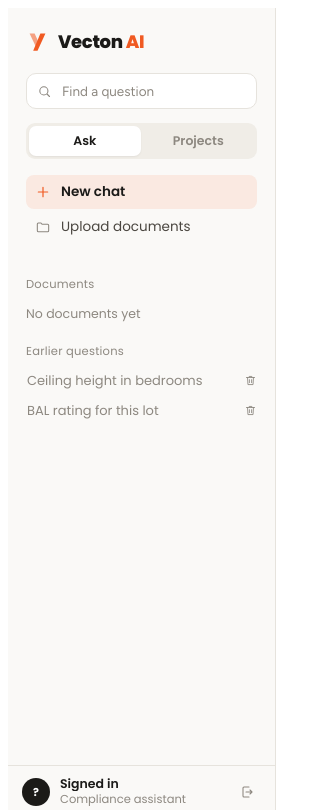
Scenario: Sidebar › filters the chat list as the user types in the search box
Type "BAL" into the field with placeholder "Find a question" at (153, 91), box [60,82,246,100]
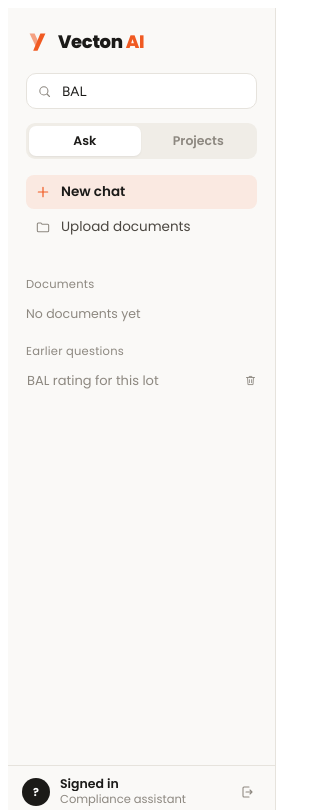
Check: the link "BAL rating for this lot" is shown, box [27,371,159,390]
Check: the link "Ceiling height in bedrooms" is gone
